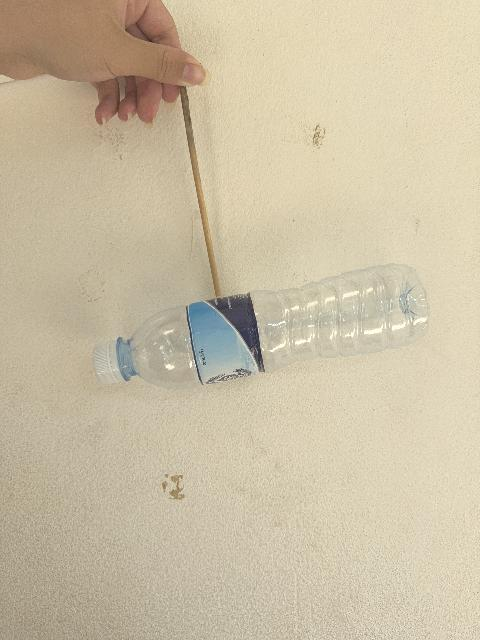bottle: (93, 265, 428, 389)
